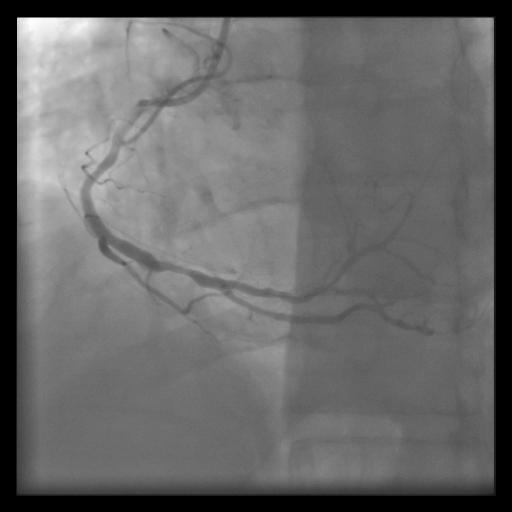Stenosis: (155, 253, 195, 285)
